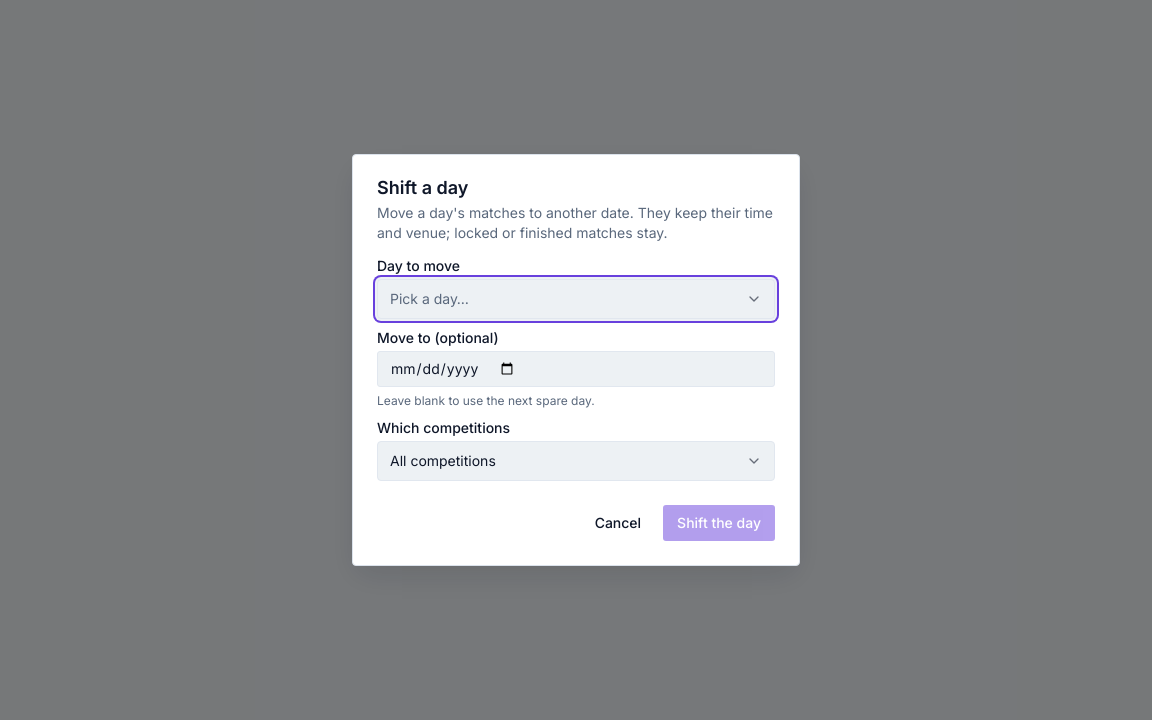
Scenario: ShiftDayDialog › explains a missing reserve day inline (stable code, not the raw detail)
What coordinates should you click on to do the following:
click the button with aria-label "Day to move"
I would click on:
 (429, 298)
Its box is [377,279,775,319].
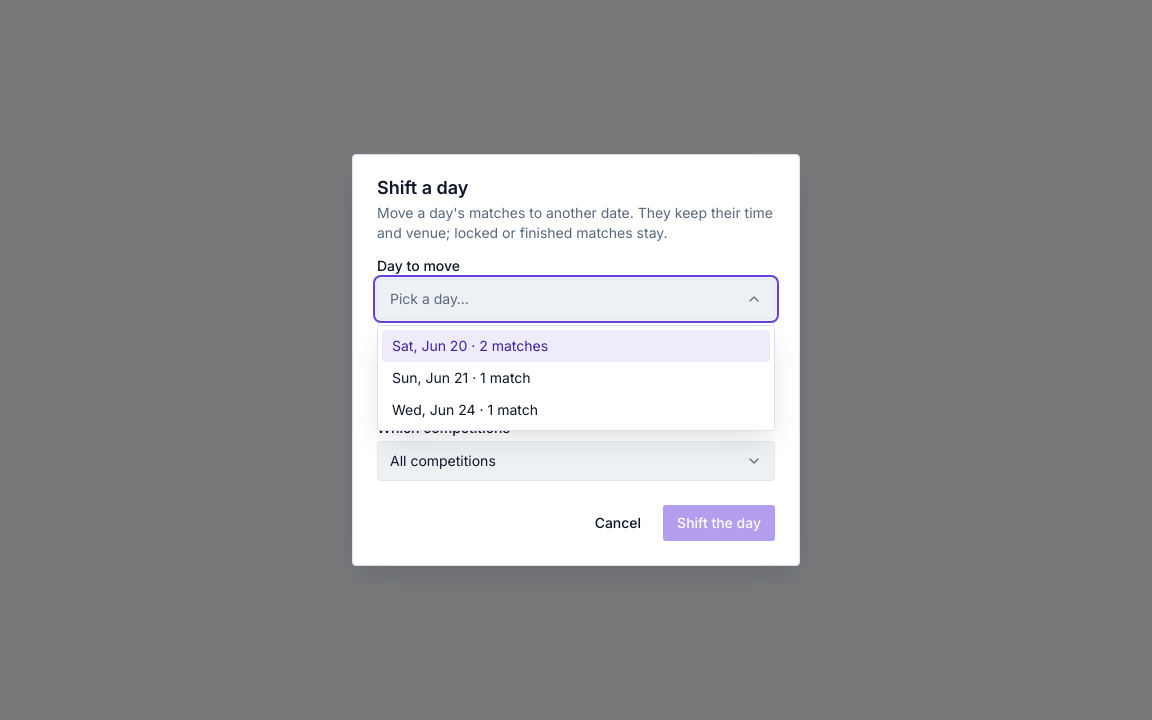
What coordinates should you click on to do the following:
click the option "Sun, Jun 21 · 1 match"
I would click on:
 (461, 378)
Its box is [392,369,531,386].
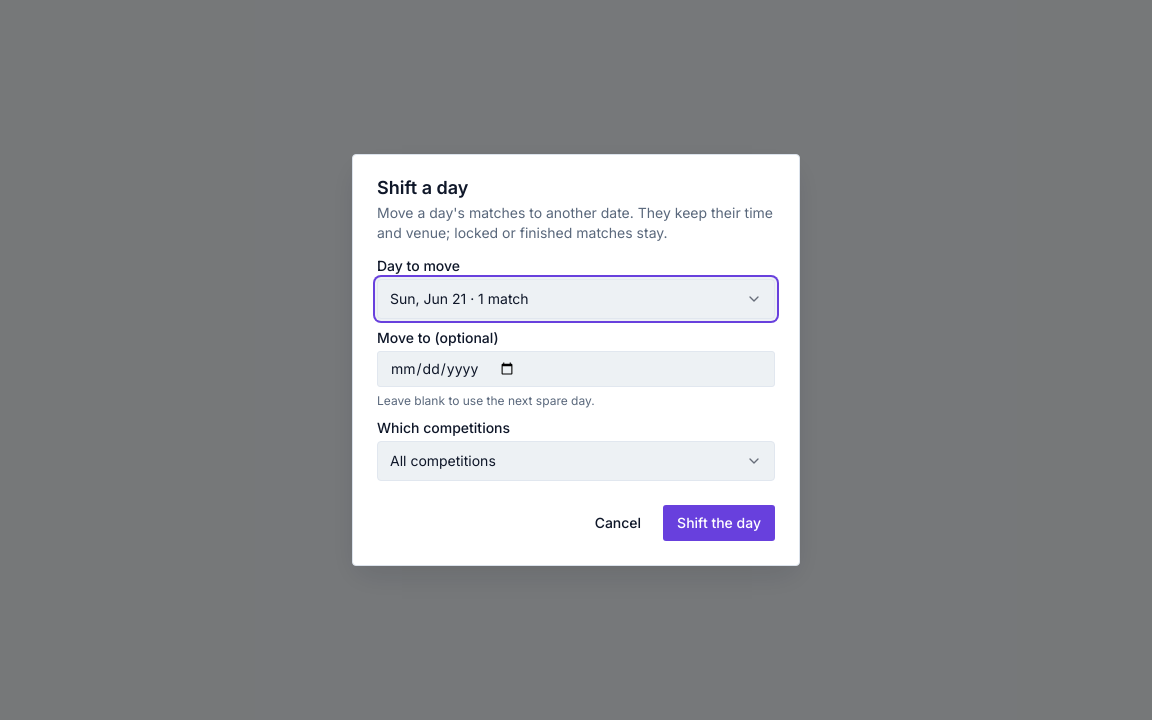
What coordinates should you click on to do the following:
click the button with test id "shift-submit"
I would click on:
 (719, 523)
Its box is [663,505,775,541].
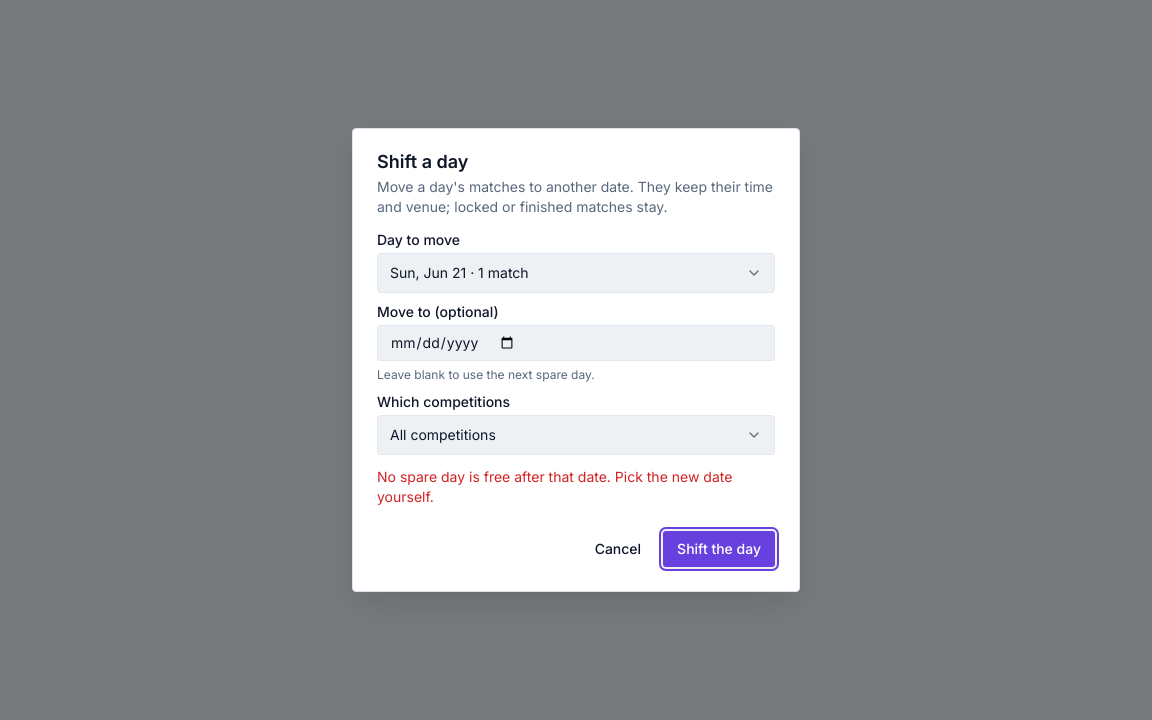
Expected: the text "No spare day is free after that date. Pick the new date yourself." is shown, [377,467,775,507]
